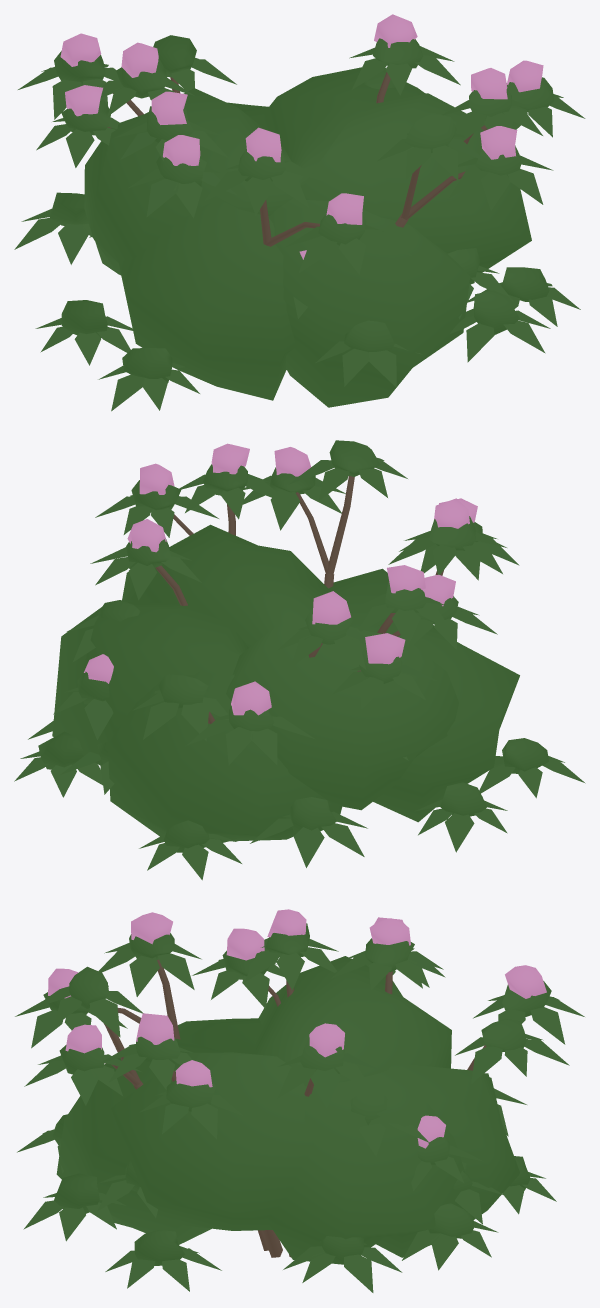
File: Blender_Rhododendron_1.glb
The picture shows the model from 3 angles, top to bottom: view 1: azimuth 30°, elevation 25°; view 2: azimuth 150°, elevation 25°; view 3: azimuth 270°, elevation 25°; orthographic projection. The views are drawn at different scales.
Visible parts, largest first — view 1: Blender_Rhododendron_1; view 2: Blender_Rhododendron_1; view 3: Blender_Rhododendron_1.
Boxes of the visible parts, x1,y1,x2,y2 form: Blender_Rhododendron_1: (14, 14, 585, 411); Blender_Rhododendron_1: (14, 440, 585, 880); Blender_Rhododendron_1: (15, 909, 584, 1292).
Bounding box in the file's own units: 5.32 × 3.27 × 5.72.
